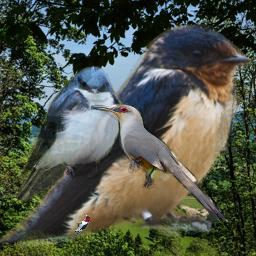Cuckoo: (91, 103, 230, 225)
Swallow: (0, 23, 255, 248), (13, 65, 124, 203)
Woodpecker: (73, 213, 92, 237)
